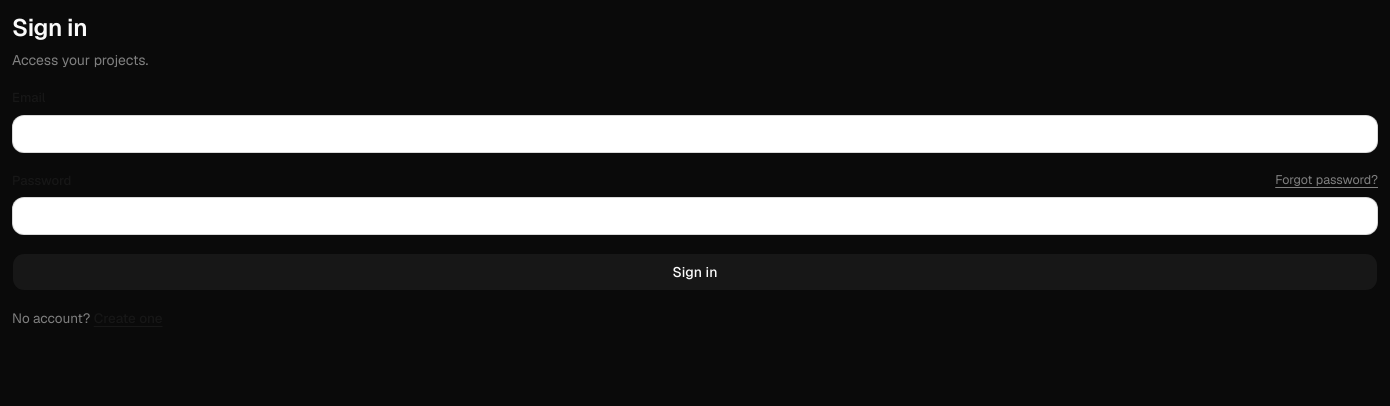
Scenario: SignInForm › shows a generic message instead of the server message when the server fails unexpectedly
Step 1. Type "ada@example.com" into the field labelled "Email" → (695, 134), box top-left (12, 114), bottom-right (1378, 152)
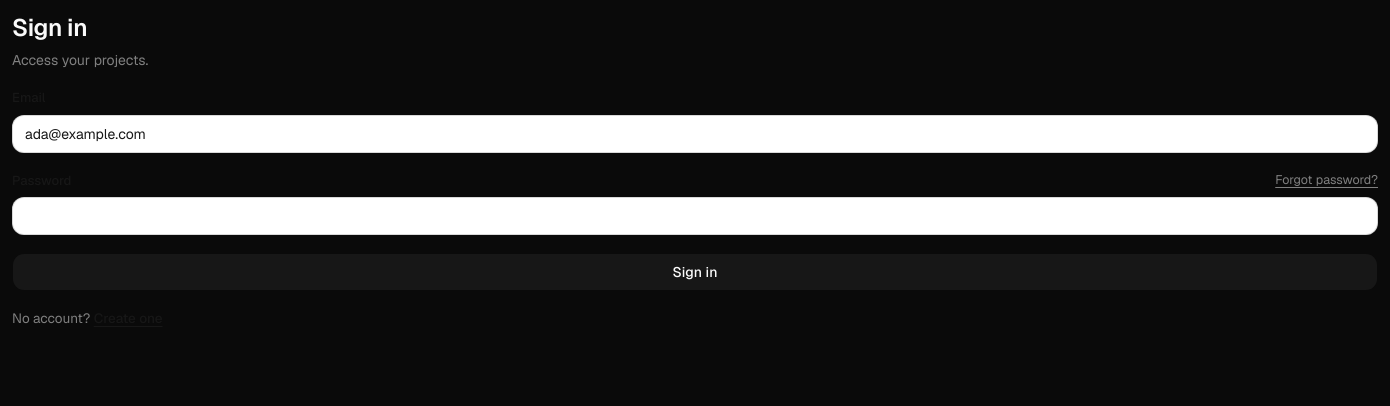
Step 2. Type "a-long-enough-password" into the password field labelled "Password" → (695, 216), box top-left (12, 197), bottom-right (1378, 235)
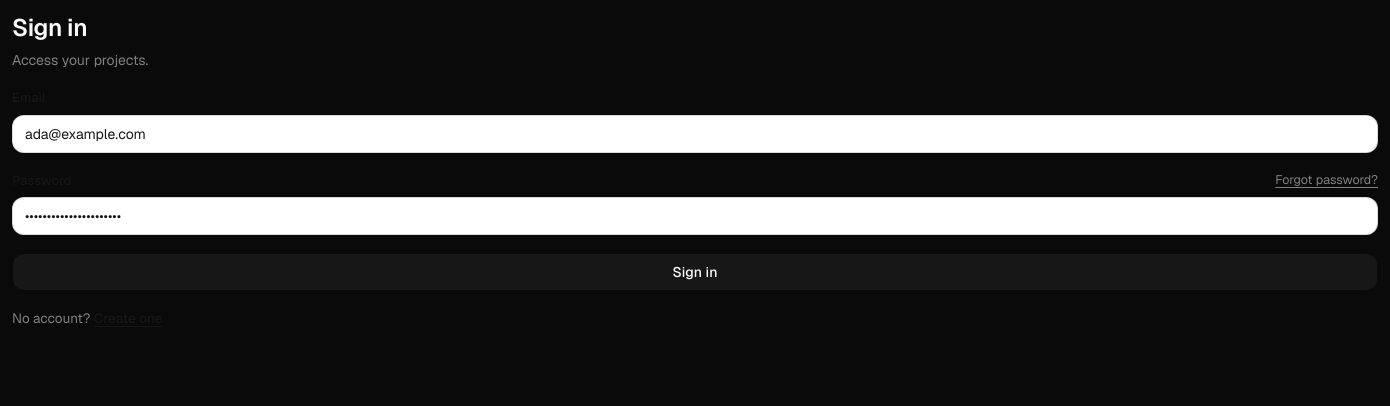
Step 3. Click the button "Sign in" → (695, 272), box top-left (12, 253), bottom-right (1378, 291)
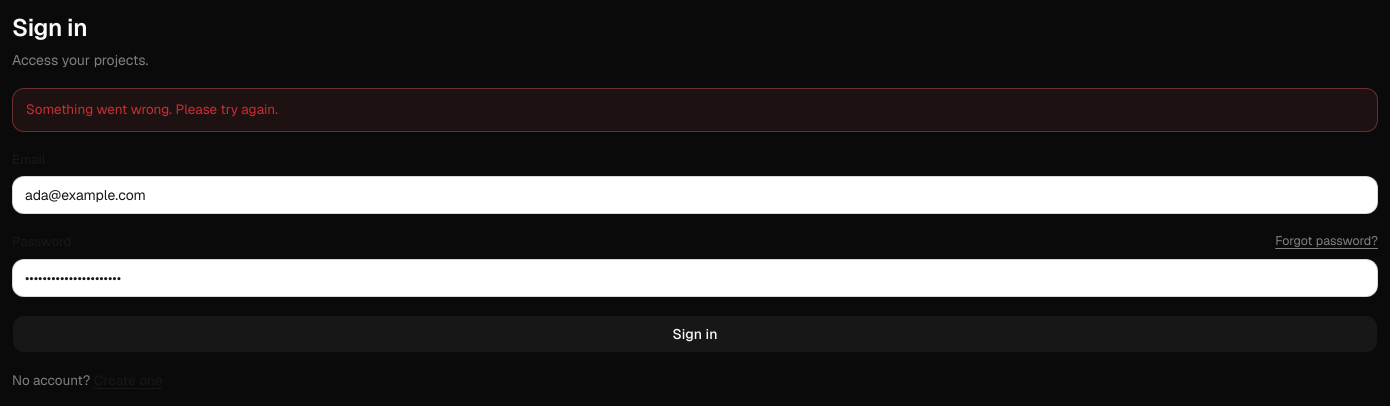
Expected: the message does not show "10.0.0.5", top-left (12, 88), bottom-right (1378, 132)
Expected: the message reads "Something went wrong. Please try again.", top-left (26, 100), bottom-right (278, 118)
